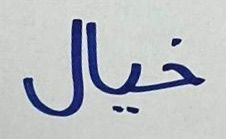alef: (85, 19, 103, 95)
khah: (149, 29, 209, 100)
lam: (14, 17, 83, 120)
yeh: (104, 49, 147, 118)
